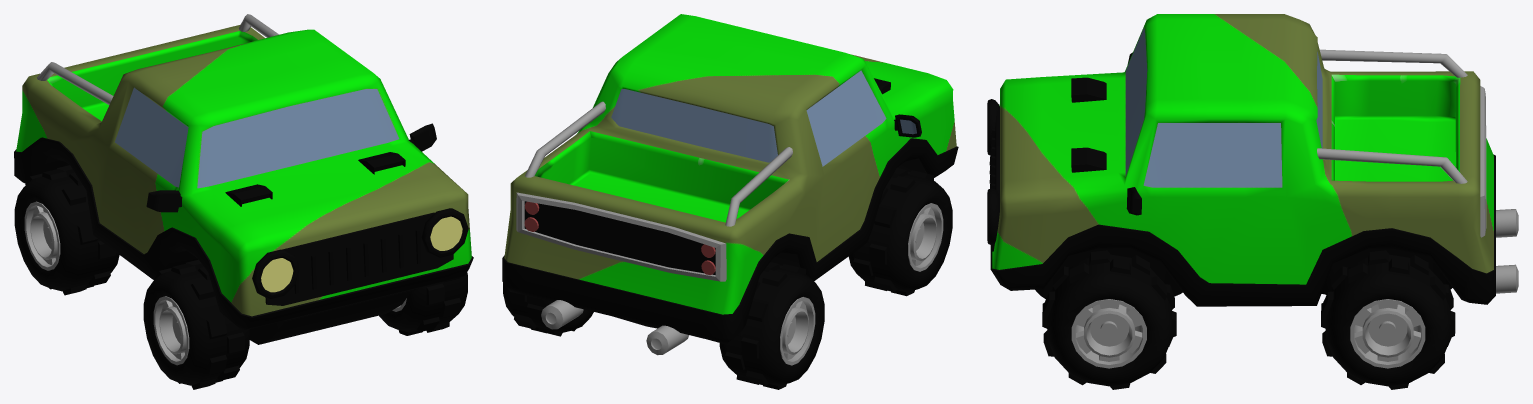
The model's file is Ranger Evolution2 Black SlideKakiGreen DarkIndigo LightGrey Horn1 Horn5.glb.
3 views of the same model, side by side, from view 1: azimuth 30°, elevation 25°; view 2: azimuth 150°, elevation 25°; view 3: azimuth 270°, elevation 25° (orthographic). The views are drawn at different scales.
Parts seen in each view (by area): view 1: evo2_bodyEvo_f1_dupl, evo2_glassFront_f1_dupl, evo2_sill2_f1_dupl, evo2_tireFR_f1_dupl, evo2_tireBL_f1_dupl, evo2_cal1_f1_dupl, evo2_glassR_f1_dupl, evo2_tireFL_f1_dupl, evo2_groundBody_f1_dupl, evo2_rimFR_f1_dupl, evo2_rimBR_f1_dupl, evo2_gridfront_f1_dupl (+10 smaller); view 2: evo2_bodyEvo_f1_dupl, evo2_sill2_f1_dupl, evo2_tireFR_f1_dupl, evo2_tireBL_f1_dupl, evo2_glassBack_f1_dupl, evo2_plackBack_f1_dupl, evo2_glassR_f1_dupl, evo2_blockBlack_f1_dupl, evo2_rimFR_f1_dupl, evo2_rimBR_f1_dupl, evo2_tireBR_f1_dupl, evo2_poleL_f1_dupl (+3 smaller); view 3: evo2_bodyEvo_f1_dupl, evo2_sill2_f1_dupl, evo2_tireBR_f1_dupl, evo2_tireFL_f1_dupl, evo2_glassL_f1_dupl, evo2_rimFL_f1_dupl, evo2_rimBL_f1_dupl, evo2_groundBody_f1_dupl, evo2_glassFront_f1_dupl, evo2_poleL_f1_dupl, evo2_poleR_f1_dupl, evo2_blockBlack_f1_dupl (+6 smaller).
Part boxes in pixels (<box>): evo2_bodyEvo_f1_dupl: <box>16,24,471,316</box>; evo2_glassFront_f1_dupl: <box>197,89,399,188</box>; evo2_sill2_f1_dupl: <box>14,137,473,330</box>; evo2_tireFR_f1_dupl: <box>143,259,249,389</box>; evo2_tireBL_f1_dupl: <box>14,165,119,295</box>; evo2_cal1_f1_dupl: <box>265,212,453,305</box>; evo2_glassR_f1_dupl: <box>115,87,188,187</box>; evo2_tireFL_f1_dupl: <box>379,272,467,335</box>; evo2_groundBody_f1_dupl: <box>249,287,420,344</box>; evo2_rimFR_f1_dupl: <box>153,296,189,365</box>; evo2_rimBR_f1_dupl: <box>24,201,60,270</box>; evo2_gridfront_f1_dupl: <box>294,229,421,293</box>; evo2_bodyEvo_f1_dupl: <box>504,14,956,314</box>; evo2_sill2_f1_dupl: <box>502,138,958,344</box>; evo2_tireFR_f1_dupl: <box>848,168,952,296</box>; evo2_tireBL_f1_dupl: <box>719,262,824,389</box>; evo2_glassBack_f1_dupl: <box>611,89,777,162</box>; evo2_plackBack_f1_dupl: <box>524,201,715,274</box>; evo2_glassR_f1_dupl: <box>806,70,886,166</box>; evo2_blockBlack_f1_dupl: <box>516,192,726,281</box>; evo2_rimFR_f1_dupl: <box>908,203,943,271</box>; evo2_rimBR_f1_dupl: <box>780,297,815,365</box>; evo2_tireBR_f1_dupl: <box>503,283,593,336</box>; evo2_poleL_f1_dupl: <box>525,101,605,177</box>; evo2_bodyEvo_f1_dupl: <box>992,14,1493,284</box>; evo2_sill2_f1_dupl: <box>990,154,1495,306</box>; evo2_tireBR_f1_dupl: <box>1321,250,1455,389</box>; evo2_tireFL_f1_dupl: <box>1042,250,1176,389</box>; evo2_glassL_f1_dupl: <box>1143,123,1282,187</box>; evo2_rimFL_f1_dupl: <box>1071,299,1146,368</box>; evo2_rimBL_f1_dupl: <box>1350,299,1425,368</box>; evo2_groundBody_f1_dupl: <box>1035,248,1452,298</box>; evo2_glassFront_f1_dupl: <box>1125,27,1147,176</box>; evo2_poleL_f1_dupl: <box>1317,148,1467,183</box>; evo2_poleR_f1_dupl: <box>1319,49,1467,77</box>; evo2_blockBlack_f1_dupl: <box>1480,86,1486,237</box>.
Bounding box in the file's own units: 187 × 152 × 277.
7 materials, 1 textured.
